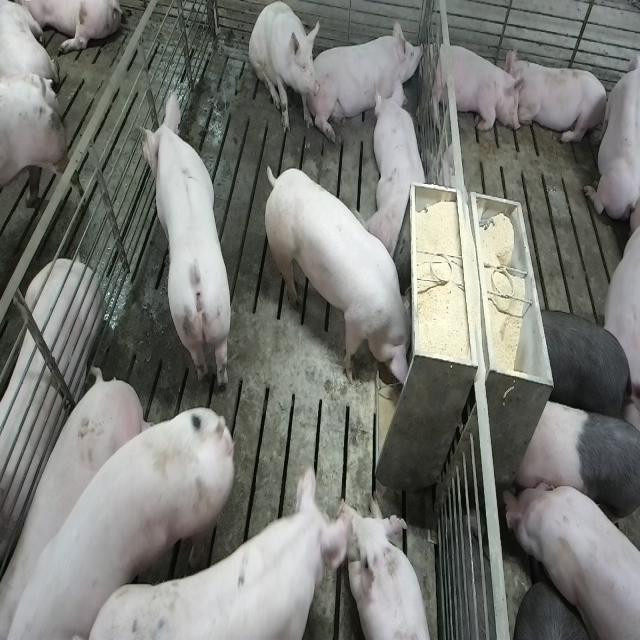Feeding: (269, 164, 421, 394)
Lateral_lying: (0, 256, 102, 594)
Sitting: (248, 2, 320, 136)
Standing: (5, 384, 243, 640), (110, 458, 360, 638), (139, 84, 233, 387), (502, 474, 638, 640), (512, 398, 638, 556), (537, 304, 636, 424)
Sternal_lying: (315, 12, 425, 136), (344, 492, 434, 640), (370, 81, 431, 261), (425, 36, 525, 138), (584, 38, 638, 226), (510, 52, 610, 148)
